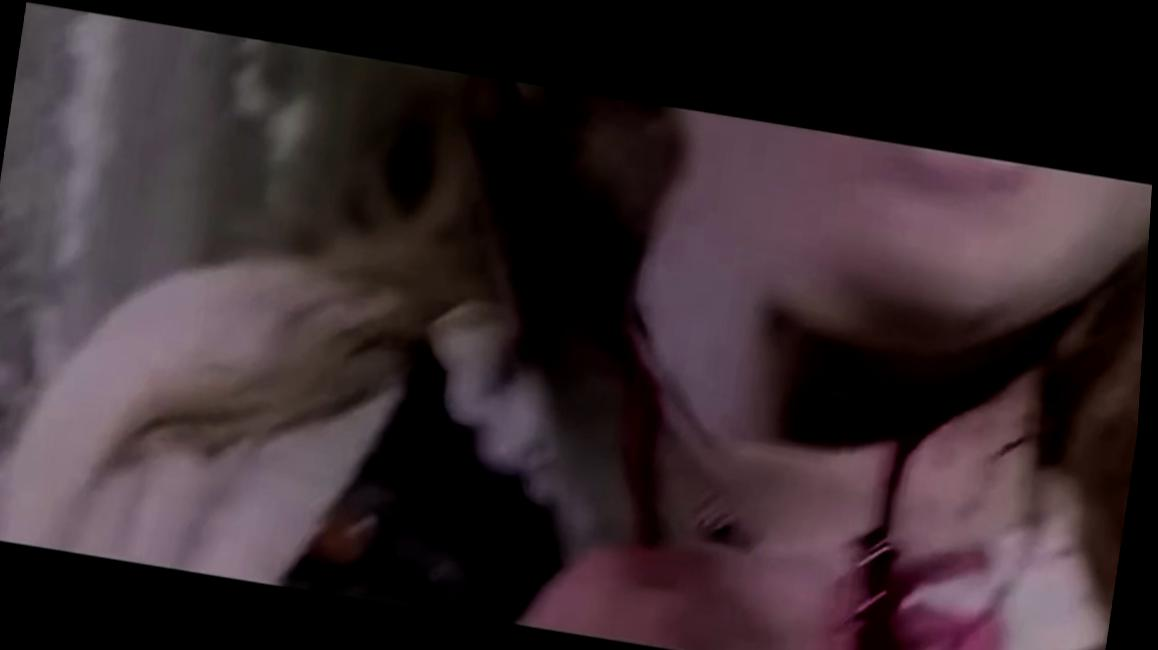Fire: (524, 98, 1080, 650)
